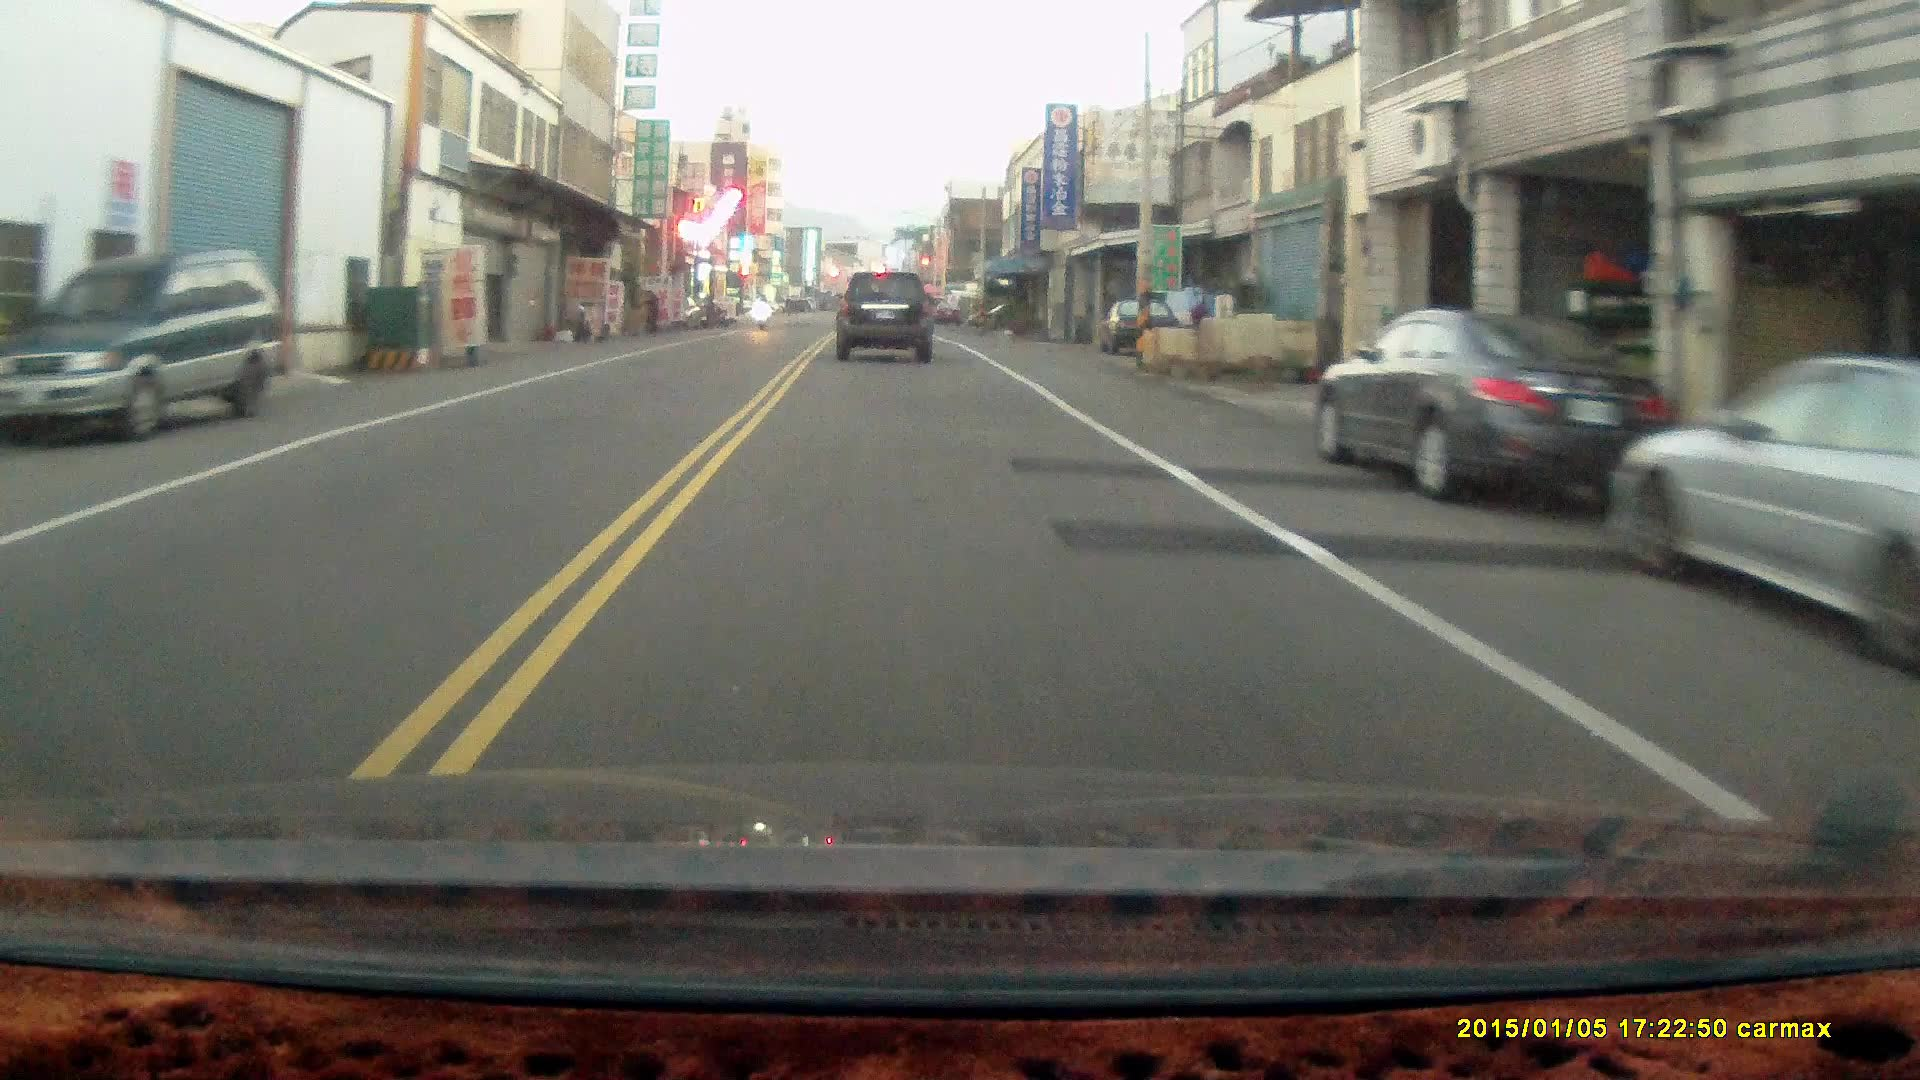pedestrian: (641, 285, 661, 334)
vehicle: (1604, 354, 1920, 671), (1315, 309, 1678, 500), (7, 242, 298, 442), (835, 267, 936, 361), (1100, 299, 1180, 355)
